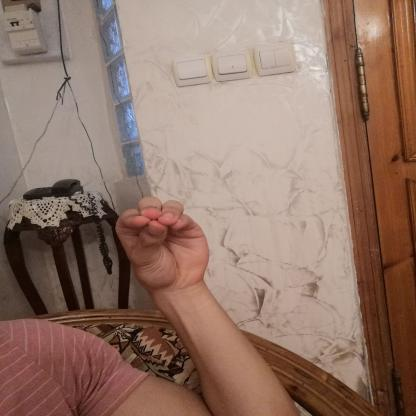HA: (102, 188, 224, 298)
